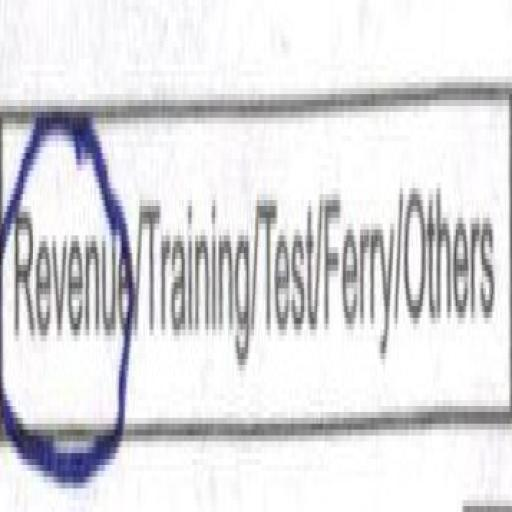check: (0, 77, 135, 512)
